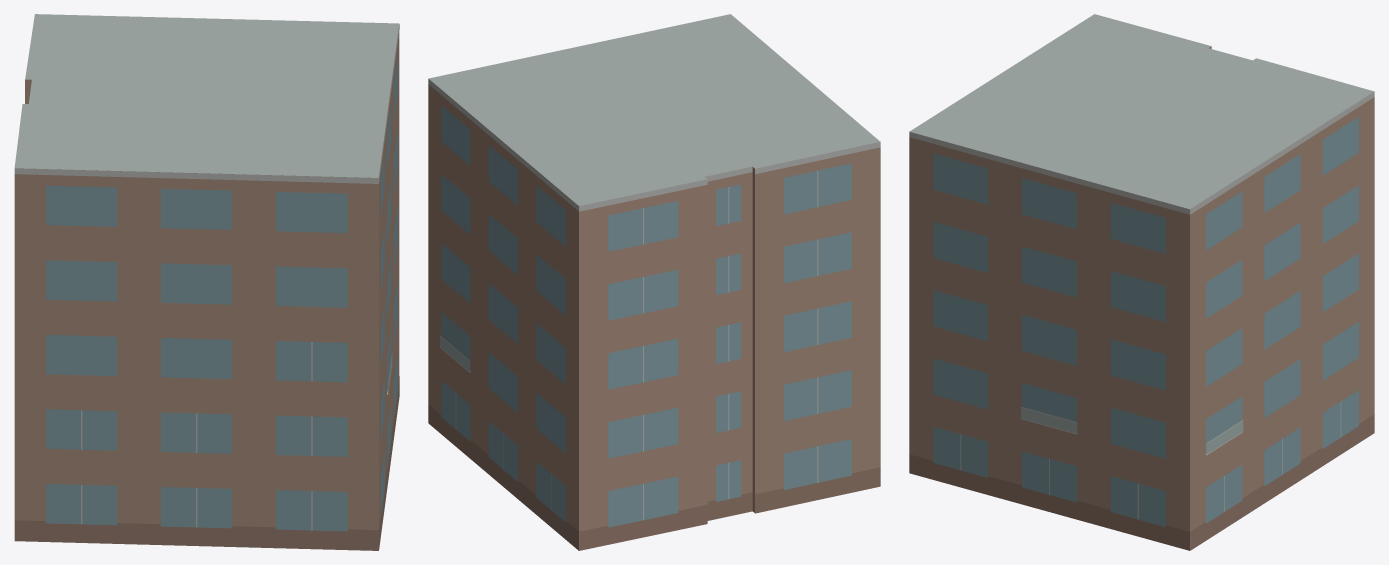
The model's file is survey-upis-32988897.glb.
3 renders of one model, left to right at view 1: azimuth 30°, elevation 25°; view 2: azimuth 150°, elevation 25°; view 3: azimuth 270°, elevation 25°, orthographic. The views are drawn at different scales.
Parts seen in each view (by area): view 1: survey-upis-32988897.tmp; view 2: survey-upis-32988897.tmp; view 3: survey-upis-32988897.tmp.
Boxes of the visible parts, box(x1,y1,x2,y2) form: survey-upis-32988897.tmp: box(14, 14, 399, 550); survey-upis-32988897.tmp: box(428, 14, 880, 550); survey-upis-32988897.tmp: box(909, 14, 1374, 550).
Size of the model in its own units: 18.71 by 15.25 by 18.84.
